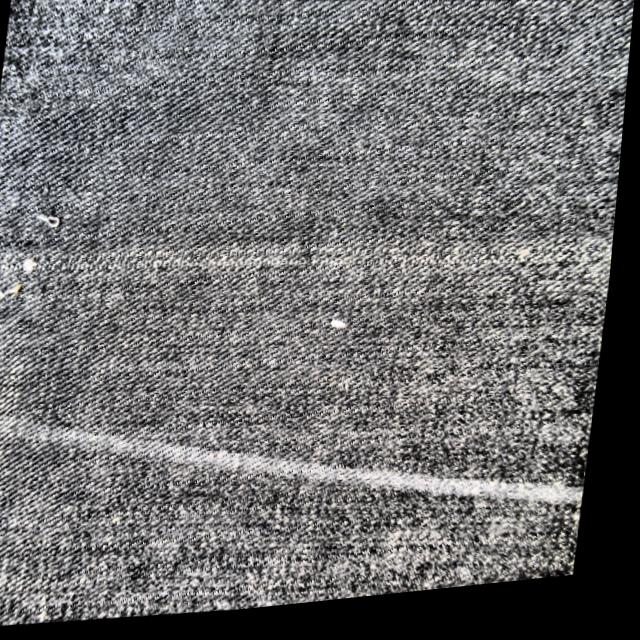Hole: (0, 207, 619, 306)
